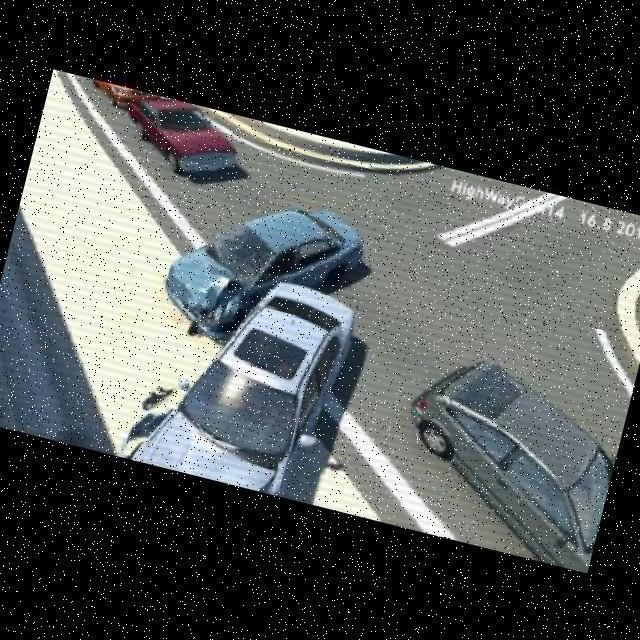accident: (119, 169, 392, 506)
